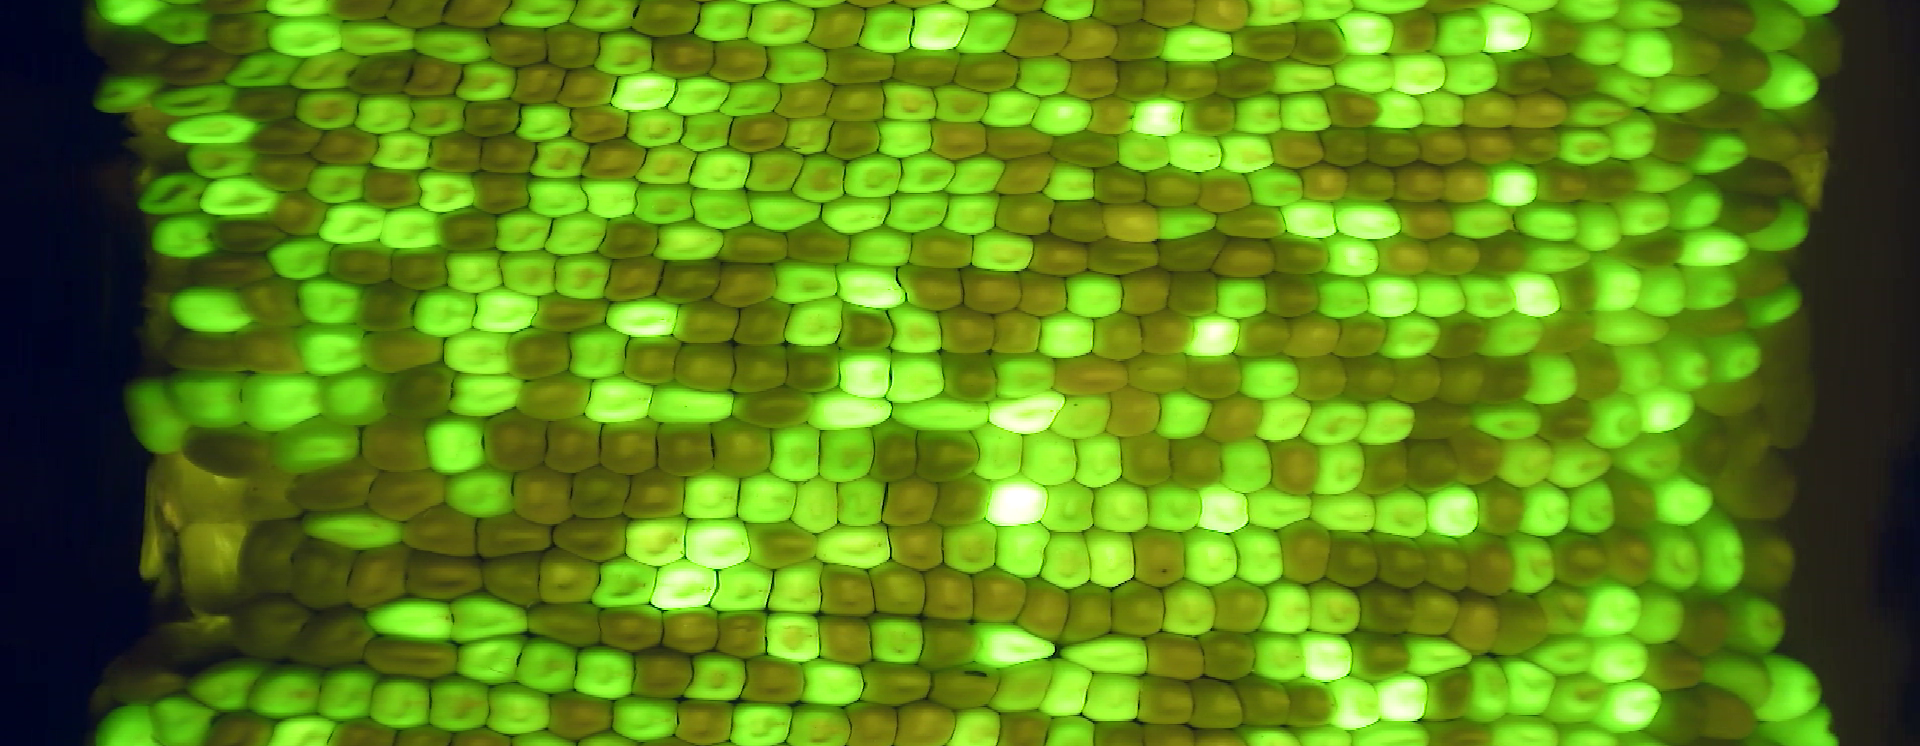fluorescent: (122, 379, 193, 456), (1690, 503, 1747, 597), (238, 371, 323, 432), (269, 415, 365, 469), (298, 510, 411, 552), (168, 369, 245, 431), (421, 413, 493, 477), (186, 659, 272, 710), (1749, 51, 1820, 113), (168, 285, 258, 333), (1760, 655, 1823, 722), (440, 467, 519, 519), (317, 369, 393, 424), (447, 592, 531, 641), (365, 599, 460, 642), (246, 664, 322, 718), (1704, 653, 1776, 710), (160, 113, 271, 149), (683, 514, 753, 572), (89, 71, 173, 119), (518, 632, 580, 696), (196, 175, 283, 220), (833, 261, 911, 311), (453, 636, 531, 686), (971, 619, 1059, 663), (1063, 632, 1151, 676), (1501, 650, 1558, 719), (1725, 593, 1788, 654), (317, 664, 383, 722), (579, 372, 653, 424), (295, 274, 369, 326), (484, 681, 553, 735), (1648, 524, 1704, 590), (623, 514, 691, 570), (891, 396, 996, 431), (1544, 432, 1613, 486), (429, 674, 491, 733), (655, 557, 719, 615), (137, 170, 216, 217), (293, 85, 365, 135), (182, 137, 269, 179), (808, 390, 895, 431), (1756, 704, 1843, 746), (294, 323, 367, 372), (765, 423, 824, 484), (1178, 528, 1239, 587), (747, 186, 822, 234), (1583, 392, 1644, 450), (737, 472, 800, 528), (267, 13, 349, 56), (1090, 481, 1153, 537), (1749, 198, 1813, 252), (370, 677, 435, 731), (1740, 1, 1807, 53), (564, 327, 632, 379), (887, 348, 947, 405), (714, 561, 774, 619), (1079, 530, 1139, 588), (149, 85, 250, 119), (574, 646, 638, 699), (1298, 399, 1371, 446), (989, 352, 1059, 401), (264, 235, 338, 282), (607, 695, 681, 741), (1649, 473, 1714, 526), (602, 298, 684, 339), (649, 383, 736, 423), (446, 371, 523, 415), (411, 285, 478, 337), (746, 1, 820, 47), (1499, 435, 1558, 492), (992, 522, 1048, 582), (1229, 527, 1286, 587), (1549, 673, 1611, 726), (590, 559, 659, 608), (681, 472, 744, 524), (1506, 533, 1559, 597), (684, 653, 749, 704), (1021, 429, 1078, 488), (771, 559, 827, 619), (982, 481, 1053, 528), (853, 2, 921, 51), (1040, 528, 1093, 589), (1678, 227, 1752, 271), (769, 258, 844, 303), (353, 89, 421, 137), (413, 24, 496, 64), (813, 526, 896, 565), (1397, 633, 1476, 675), (147, 216, 223, 258), (987, 393, 1063, 436), (317, 202, 391, 246), (471, 289, 545, 333), (1297, 628, 1356, 684), (817, 428, 877, 481), (1603, 681, 1664, 734), (1469, 399, 1547, 441), (1663, 331, 1713, 394), (1059, 272, 1128, 318), (1081, 671, 1146, 720), (1669, 176, 1725, 233), (1707, 330, 1764, 385), (1158, 582, 1216, 637), (1251, 628, 1309, 684), (1584, 582, 1642, 637), (497, 246, 557, 299), (1635, 586, 1687, 646), (909, 4, 971, 54), (958, 7, 1020, 58), (834, 348, 896, 398), (782, 299, 845, 349), (765, 611, 828, 661), (1043, 657, 1093, 719), (689, 185, 757, 232), (1155, 24, 1237, 62), (142, 5, 217, 47), (442, 333, 517, 375), (801, 660, 869, 706), (1527, 636, 1596, 681), (971, 423, 1026, 479), (867, 612, 924, 666), (1632, 387, 1697, 435), (525, 173, 591, 219), (152, 698, 218, 745), (1468, 657, 1515, 723), (940, 523, 1002, 573), (1592, 307, 1673, 345), (1592, 251, 1641, 314), (611, 70, 678, 115), (1217, 439, 1273, 492), (629, 179, 698, 223), (1145, 481, 1204, 533), (1614, 432, 1682, 477), (1313, 489, 1378, 535), (1248, 485, 1313, 532), (888, 304, 948, 354), (1153, 392, 1215, 441), (784, 703, 853, 746), (337, 17, 418, 54), (1526, 352, 1581, 405), (1071, 432, 1125, 488), (1258, 581, 1314, 633), (691, 147, 754, 194), (1195, 484, 1254, 534), (1041, 483, 1100, 533), (593, 29, 658, 75), (1239, 355, 1304, 401), (760, 40, 829, 83), (1691, 127, 1751, 176), (227, 49, 301, 88), (579, 173, 640, 220), (1429, 7, 1490, 55), (547, 209, 609, 257), (942, 187, 1003, 235), (552, 252, 613, 300), (1251, 396, 1314, 442), (1611, 342, 1667, 394), (1425, 485, 1480, 538), (1311, 582, 1367, 635), (1520, 481, 1572, 537), (1438, 51, 1501, 97), (444, 250, 508, 295), (793, 473, 839, 537), (1592, 635, 1651, 684), (1644, 76, 1722, 113), (819, 195, 891, 234), (1336, 10, 1398, 55), (416, 167, 479, 212), (1371, 488, 1428, 538), (655, 222, 725, 262), (1374, 675, 1431, 724), (1678, 265, 1741, 309), (1513, 201, 1581, 243), (493, 207, 553, 254), (531, 136, 591, 183), (305, 162, 370, 205), (1482, 314, 1547, 356), (1389, 51, 1450, 97), (1036, 314, 1097, 359), (796, 149, 847, 203), (1314, 441, 1368, 492), (878, 77, 940, 121), (381, 207, 443, 251), (972, 229, 1035, 273), (1614, 194, 1676, 238), (729, 701, 791, 745), (1333, 201, 1403, 240), (636, 145, 699, 187), (1380, 315, 1444, 358), (1332, 53, 1397, 94), (887, 191, 951, 233), (516, 100, 577, 145), (1618, 28, 1675, 75), (1597, 64, 1654, 110), (1462, 271, 1520, 317), (624, 107, 691, 147), (1742, 285, 1806, 327), (1523, 236, 1593, 274), (1326, 681, 1378, 733), (1608, 111, 1660, 162), (1638, 265, 1687, 318), (1365, 86, 1428, 127), (1277, 91, 1336, 135), (1480, 4, 1532, 54), (834, 480, 887, 529), (691, 1, 754, 42), (1243, 165, 1307, 206), (1511, 271, 1565, 318), (1318, 274, 1371, 322), (1567, 481, 1615, 535), (1211, 276, 1271, 318), (1322, 234, 1384, 276), (371, 131, 436, 170), (1016, 54, 1074, 98), (1054, 394, 1112, 439), (291, 50, 354, 91), (407, 96, 469, 136), (91, 709, 159, 746), (1416, 272, 1469, 318), (898, 153, 958, 195), (1131, 93, 1187, 138), (980, 89, 1043, 129), (1032, 94, 1093, 135), (931, 82, 992, 122), (876, 118, 937, 158), (1184, 316, 1245, 356), (458, 59, 516, 102), (1633, 156, 1698, 194), (994, 665, 1046, 713), (1485, 714, 1562, 746), (1578, 200, 1625, 252), (496, 1, 583, 29), (746, 151, 804, 192), (849, 230, 915, 267), (1569, 24, 1632, 62), (1362, 273, 1418, 316), (1556, 125, 1614, 167), (1269, 58, 1338, 92), (1044, 159, 1097, 205), (1231, 92, 1284, 136), (1488, 164, 1542, 208), (1363, 398, 1412, 446), (844, 158, 905, 196), (92, 1, 174, 29), (1566, 92, 1633, 126), (1412, 87, 1468, 127), (678, 111, 735, 152), (568, 1, 639, 33), (671, 73, 724, 116), (1166, 134, 1223, 173), (950, 156, 1005, 196), (1114, 132, 1171, 171), (1220, 132, 1273, 173), (1615, 1, 1686, 32), (721, 78, 782, 114), (947, 707, 1002, 746), (1157, 205, 1220, 239), (1283, 198, 1336, 239), (264, 717, 337, 746), (1449, 205, 1515, 236), (1354, 722, 1438, 746), (785, 115, 835, 153), (1244, 1, 1310, 29), (1046, 713, 1097, 746), (1549, 1, 1620, 24), (1238, 723, 1304, 746), (1296, 1, 1357, 24), (1559, 723, 1620, 746), (262, 1, 344, 18), (1292, 725, 1356, 746), (1040, 1, 1095, 23), (1488, 1, 1561, 17), (1351, 1, 1429, 15), (1615, 726, 1668, 746), (511, 731, 580, 746), (578, 733, 640, 746), (947, 1, 1000, 13), (1791, 1, 1840, 15), (790, 1, 847, 10)
nonfluorescent: (1713, 454, 1804, 521), (1755, 374, 1824, 452), (231, 597, 306, 669), (238, 519, 305, 598), (179, 425, 276, 478), (290, 610, 375, 669), (1751, 317, 1822, 386), (367, 465, 449, 524), (362, 633, 460, 682), (1673, 409, 1733, 489), (291, 537, 354, 612), (100, 650, 186, 706), (399, 503, 482, 559), (707, 418, 778, 481), (482, 412, 552, 475), (525, 600, 610, 650), (508, 464, 576, 527), (1788, 15, 1849, 83), (1739, 529, 1800, 598), (629, 642, 696, 704), (407, 552, 486, 604), (100, 24, 178, 77), (360, 330, 449, 375), (384, 363, 458, 418), (1273, 521, 1335, 587), (345, 548, 411, 609), (473, 511, 557, 559), (287, 465, 377, 510), (478, 556, 547, 612), (1018, 575, 1073, 646), (655, 416, 719, 478), (536, 548, 601, 608), (361, 419, 433, 473), (913, 428, 986, 481), (1469, 479, 1531, 541), (159, 43, 241, 89), (517, 375, 596, 423), (1608, 467, 1663, 535), (730, 388, 820, 430), (545, 688, 620, 739), (599, 418, 662, 477), (1371, 528, 1430, 592), (1491, 592, 1550, 655), (1107, 581, 1171, 639), (744, 519, 820, 568), (551, 514, 631, 561), (1140, 630, 1209, 684), (1129, 528, 1190, 588), (1325, 524, 1381, 589), (620, 469, 691, 521), (1133, 673, 1200, 726), (819, 562, 883, 619), (1418, 530, 1473, 595), (920, 617, 984, 673), (672, 341, 740, 393), (1464, 532, 1517, 599), (235, 325, 307, 374), (1449, 430, 1509, 489), (1712, 40, 1773, 98), (1648, 688, 1709, 746), (1187, 677, 1250, 733), (898, 263, 967, 314), (567, 469, 634, 521), (238, 469, 305, 521), (1550, 530, 1611, 587), (868, 561, 931, 616), (961, 263, 1025, 317), (1599, 526, 1653, 589), (740, 657, 809, 706), (936, 350, 1000, 403), (1051, 354, 1135, 394), (1168, 434, 1226, 492), (1640, 641, 1707, 691), (1664, 22, 1724, 78), (1569, 342, 1625, 402), (969, 570, 1030, 625), (164, 332, 247, 372), (1711, 158, 1794, 198), (928, 663, 1000, 709), (206, 10, 276, 58), (1212, 579, 1271, 636), (920, 567, 978, 624), (547, 414, 602, 474), (1356, 579, 1416, 635), (649, 32, 718, 80), (1202, 392, 1266, 443), (1742, 111, 1806, 163), (951, 47, 1021, 93), (1404, 437, 1461, 495), (1702, 684, 1762, 737), (1060, 586, 1114, 646), (860, 660, 931, 706), (598, 604, 669, 649), (1490, 49, 1558, 97), (358, 282, 420, 333), (1199, 628, 1261, 680), (834, 301, 898, 352), (1117, 434, 1176, 488), (1689, 91, 1764, 132), (1104, 387, 1164, 440), (1233, 674, 1293, 726), (816, 612, 876, 665), (714, 258, 780, 306), (1319, 85, 1385, 132), (1347, 628, 1413, 676), (1089, 312, 1151, 363), (893, 699, 960, 746), (324, 240, 396, 284), (1682, 1, 1762, 40), (673, 300, 742, 345), (867, 424, 921, 481), (1357, 441, 1411, 499), (658, 256, 722, 304), (782, 343, 842, 394), (1680, 597, 1731, 657), (468, 169, 534, 216), (506, 330, 576, 374), (622, 333, 683, 383), (1291, 353, 1352, 403), (984, 121, 1058, 163), (1731, 247, 1794, 296), (733, 342, 791, 394), (1267, 439, 1320, 496), (582, 138, 650, 183), (211, 216, 288, 255), (735, 296, 793, 348), (822, 45, 899, 85), (661, 604, 720, 655), (882, 477, 940, 528), (361, 164, 422, 213), (350, 53, 416, 98), (1085, 235, 1161, 274), (531, 294, 612, 331), (782, 225, 856, 266), (1406, 583, 1461, 637), (1450, 595, 1500, 654), (887, 521, 945, 571), (1262, 271, 1324, 318), (309, 127, 381, 168), (928, 115, 991, 162), (936, 306, 998, 353), (936, 473, 991, 526), (1164, 267, 1221, 318), (996, 191, 1059, 236), (1026, 233, 1090, 278), (1184, 350, 1243, 399), (1153, 234, 1224, 274), (1010, 10, 1070, 58), (1720, 191, 1782, 238), (841, 699, 902, 746), (1652, 111, 1704, 165), (1286, 676, 1340, 729), (1287, 310, 1342, 361), (1438, 352, 1489, 407), (673, 698, 736, 744), (598, 216, 661, 260), (1054, 129, 1122, 170), (1291, 20, 1351, 66), (1365, 124, 1425, 170), (1374, 233, 1434, 279), (1695, 379, 1771, 415), (389, 247, 454, 290), (1232, 22, 1297, 65), (242, 281, 304, 326), (910, 229, 978, 269), (989, 307, 1044, 358), (1540, 582, 1589, 638), (708, 38, 770, 82), (602, 257, 665, 301), (894, 45, 960, 87), (632, 1, 702, 40), (1340, 354, 1398, 401), (487, 26, 551, 69), (196, 254, 276, 288), (1266, 127, 1330, 170), (1392, 200, 1460, 240), (1196, 169, 1256, 214), (1791, 103, 1843, 156), (1390, 353, 1444, 403), (1480, 352, 1531, 405), (410, 51, 465, 100), (718, 227, 791, 263), (1138, 309, 1194, 356), (544, 23, 601, 70), (480, 130, 538, 176), (1129, 352, 1191, 394), (1090, 165, 1156, 206), (1236, 314, 1294, 359), (203, 710, 278, 746), (1213, 236, 1277, 278), (1060, 17, 1120, 61), (1220, 55, 1280, 99), (1019, 268, 1071, 318), (811, 2, 864, 51), (823, 82, 890, 121), (825, 115, 882, 162), (272, 191, 329, 236), (1534, 159, 1592, 205), (440, 209, 502, 251), (430, 132, 489, 176), (1051, 198, 1109, 243), (1103, 201, 1162, 245), (253, 149, 317, 190), (1582, 157, 1636, 205), (1142, 165, 1202, 208), (714, 610, 769, 657), (1611, 235, 1686, 269), (1393, 159, 1450, 205), (560, 66, 618, 109), (1216, 205, 1289, 239), (1537, 314, 1596, 356), (1389, 10, 1442, 56), (729, 113, 789, 154), (1166, 58, 1221, 103), (1540, 398, 1596, 443), (511, 62, 567, 107), (999, 153, 1057, 196), (1273, 233, 1331, 276), (564, 104, 629, 142), (1423, 673, 1473, 722), (1122, 267, 1173, 315), (1550, 269, 1602, 317), (1182, 97, 1240, 138), (1413, 125, 1472, 167), (1116, 58, 1171, 102), (1409, 402, 1476, 439), (1461, 127, 1521, 168), (1109, 22, 1171, 61), (775, 78, 836, 118), (1731, 415, 1779, 465), (1427, 236, 1484, 278), (460, 98, 523, 136), (1067, 58, 1122, 100), (252, 121, 323, 154), (1513, 89, 1570, 131), (1340, 162, 1397, 202), (235, 87, 302, 121), (1462, 89, 1521, 129), (1298, 163, 1353, 205), (1320, 125, 1370, 170), (1680, 305, 1749, 338), (993, 710, 1057, 746), (327, 715, 400, 746), (1434, 317, 1488, 359), (1480, 234, 1528, 279), (1531, 13, 1580, 58), (1549, 58, 1598, 102), (1510, 126, 1564, 165), (1442, 165, 1496, 205), (77, 5, 119, 55), (1340, 316, 1389, 358), (1086, 99, 1139, 137), (384, 1, 454, 29), (441, 1, 511, 29), (1191, 1, 1256, 31), (1425, 719, 1495, 746), (1138, 718, 1200, 746), (1142, 1, 1200, 31), (1089, 719, 1150, 746), (392, 723, 458, 746), (1092, 1, 1146, 29), (1190, 722, 1249, 746), (329, 1, 394, 23), (447, 725, 516, 746), (201, 1, 269, 20), (1424, 1, 1498, 13), (993, 1, 1043, 13), (842, 1, 895, 10), (891, 1, 948, 6)
